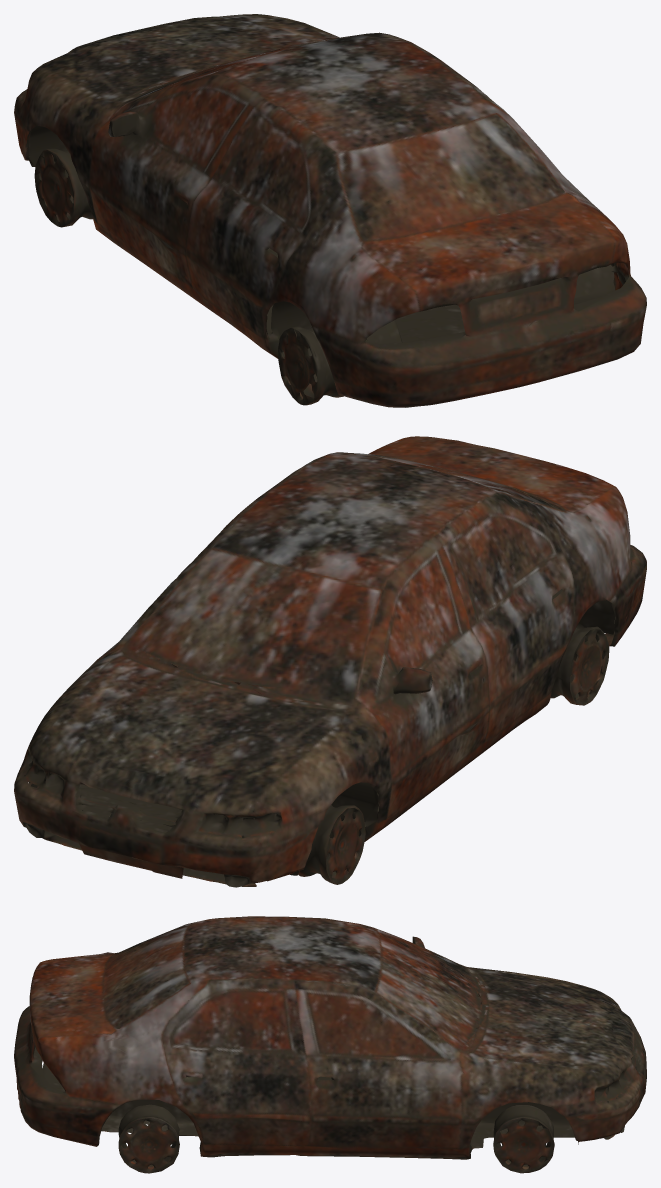
File: samand.glb
3 views of the same model, one above another, from view 1: azimuth 30°, elevation 25°; view 2: azimuth 150°, elevation 25°; view 3: azimuth 270°, elevation 25° (orthographic). The views are drawn at different scales.
Bounding box in the file's own units: 0.3219 × 0.2215 × 0.7315.
1 material, 1 textured.
